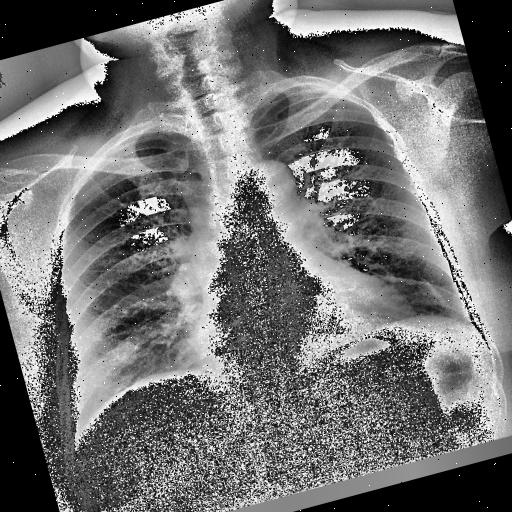0- Aortic enlargement: (230, 153, 300, 218), (233, 157, 300, 219), (238, 154, 300, 206)
13- Pulmonary fibrosis: (388, 264, 448, 320), (419, 268, 456, 316), (418, 270, 450, 314)
3- Cardiomegaly: (186, 267, 422, 382), (185, 264, 411, 376), (184, 272, 412, 372)
8- Nodule-Mass: (112, 338, 140, 365)
